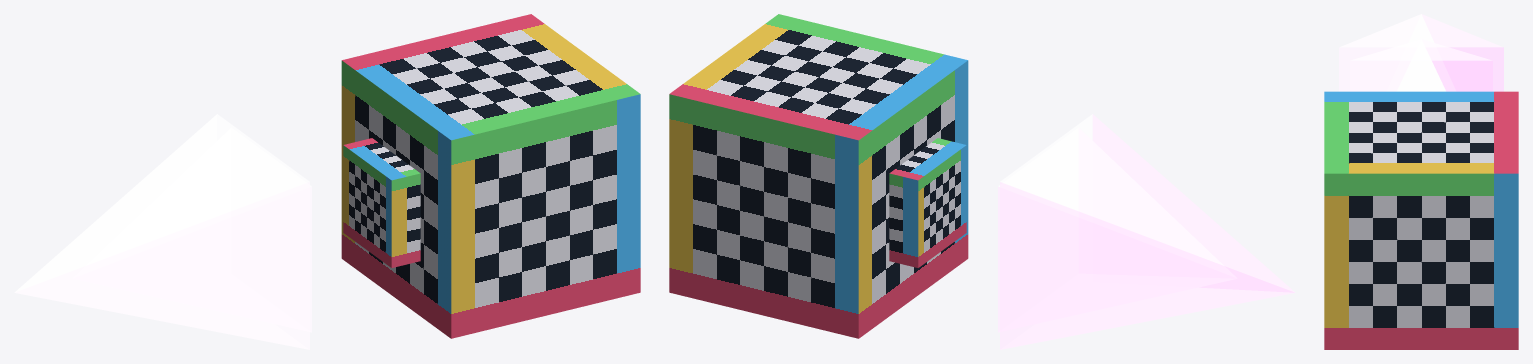
Rendered from vector_thruster_gltf.gltf.
3 views of the same model, side by side, from view 1: azimuth 30°, elevation 25°; view 2: azimuth 150°, elevation 25°; view 3: azimuth 270°, elevation 25° (orthographic). The views are drawn at different scales.
Parts seen in each view (by area): view 1: VectorThrusterRoot, flameGlow, flame, gimbalAssembly; view 2: VectorThrusterRoot, flameGlow, flame, gimbalAssembly; view 3: VectorThrusterRoot, flameGlow, flame.
Part boxes in pixels (left/top/right/bottom): VectorThrusterRoot: left=341, top=14, right=640, bottom=338; flameGlow: left=14, top=114, right=309, bottom=349; flame: left=73, top=128, right=311, bottom=332; gimbalAssembly: left=343, top=138, right=420, bottom=267; VectorThrusterRoot: left=669, top=14, right=968, bottom=338; flameGlow: left=1000, top=114, right=1295, bottom=349; flame: left=998, top=128, right=1236, bottom=332; gimbalAssembly: left=889, top=138, right=966, bottom=267; VectorThrusterRoot: left=1324, top=91, right=1518, bottom=349; flameGlow: left=1339, top=14, right=1503, bottom=91; flame: left=1350, top=39, right=1492, bottom=91.
Size of the model in its own units: 2.86 by 0.95 by 0.95.
Materials: 2 (1 with a texture image).
